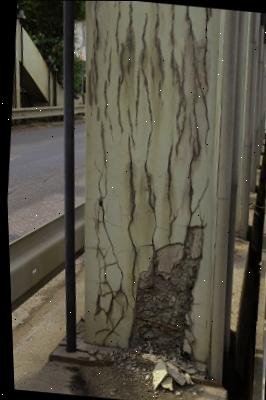spalling: (126, 224, 205, 365)
